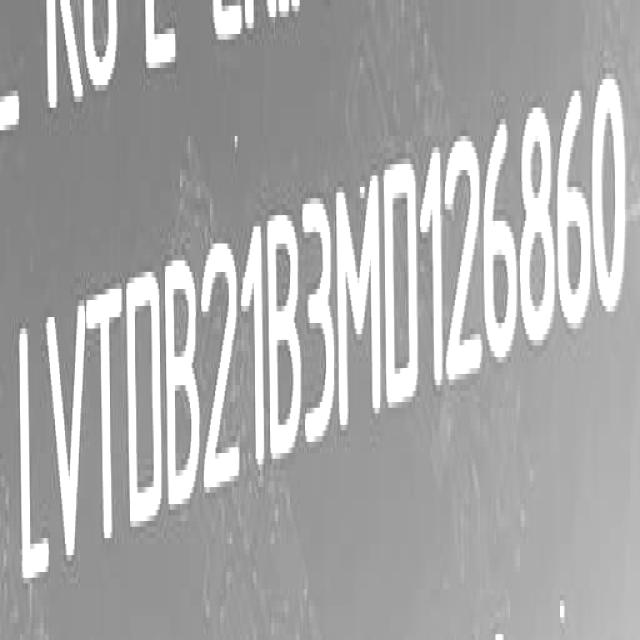0: (593, 67, 630, 324)
1: (419, 142, 444, 403), (243, 227, 266, 480)
2: (201, 245, 239, 495), (447, 140, 485, 384)
3: (302, 192, 337, 442)
6: (483, 119, 523, 368), (555, 79, 592, 336)
8: (519, 100, 556, 348)
B: (167, 258, 206, 511), (270, 208, 305, 464)
D: (125, 273, 163, 534), (386, 159, 423, 414)
L: (14, 315, 48, 591)
M: (340, 170, 387, 430)
T: (90, 283, 124, 558)
V: (44, 298, 86, 574)
